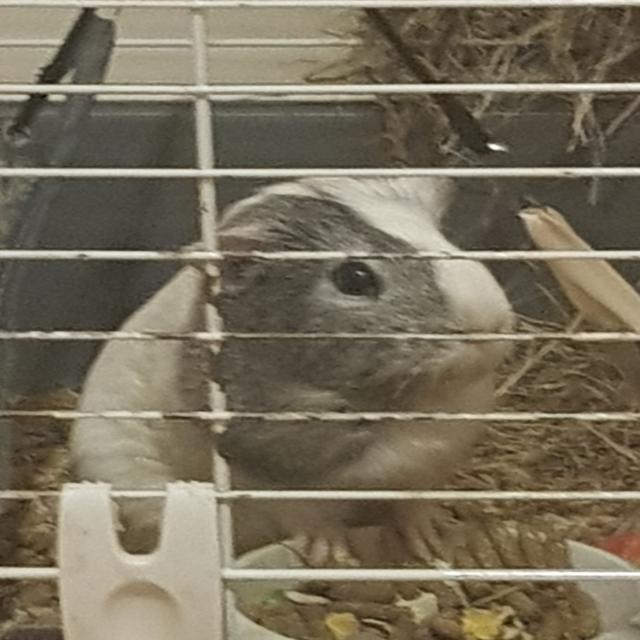guinea pig: (62, 171, 522, 573)
